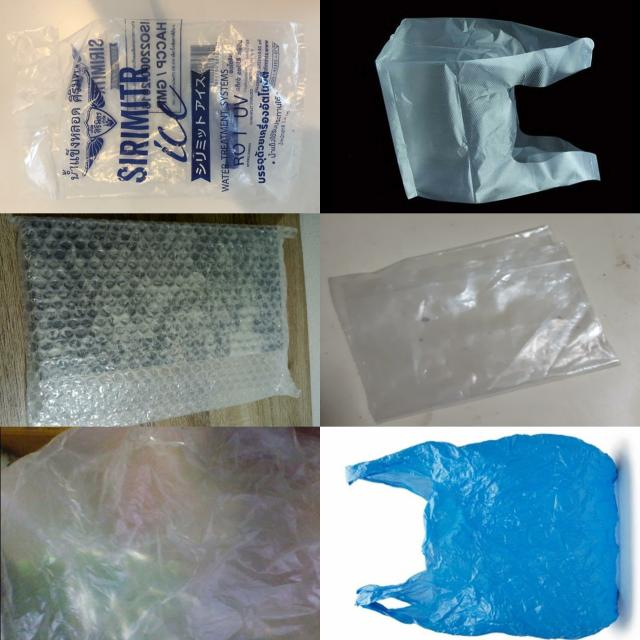Single-layer Plastic: (3, 428, 319, 640), (15, 218, 300, 426), (330, 226, 619, 422), (347, 434, 618, 639), (10, 19, 304, 201), (377, 18, 599, 203)
